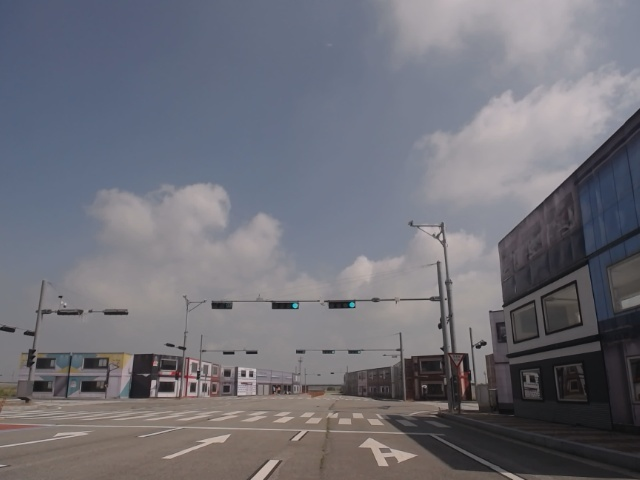straight_green_4: (327, 298, 356, 308), (272, 301, 299, 309)
